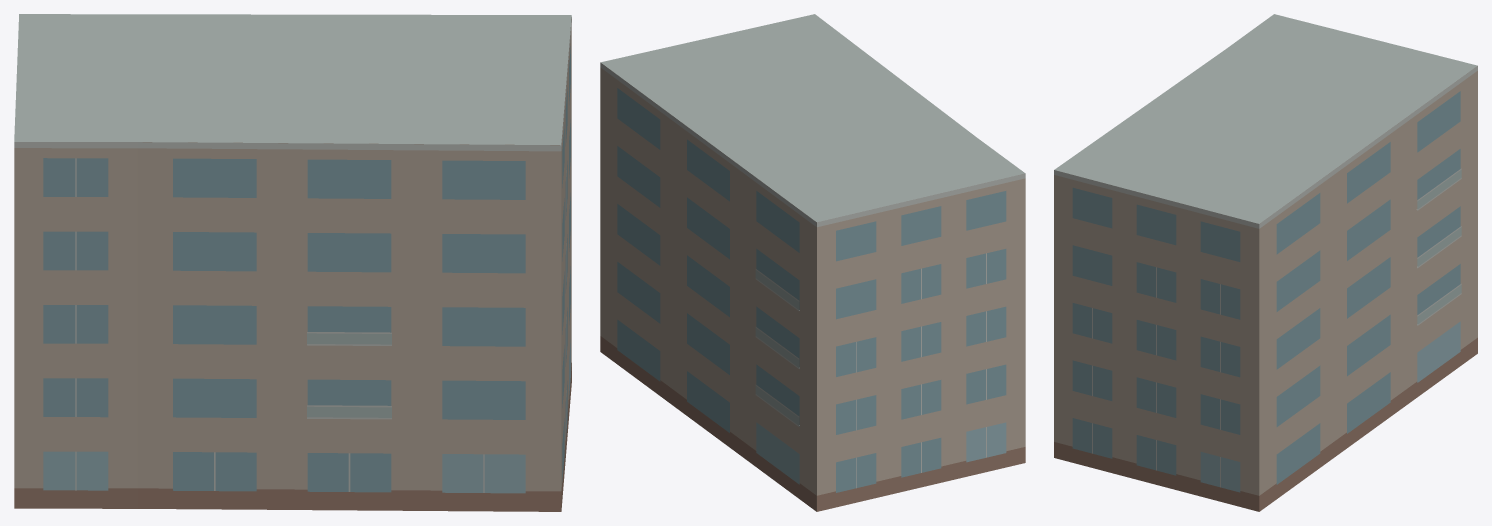
Rendered from survey-upis-32954322.glb.
3 views of the same model, side by side, from view 1: azimuth 30°, elevation 25°; view 2: azimuth 150°, elevation 25°; view 3: azimuth 270°, elevation 25° (orthographic). The views are drawn at different scales.
Parts seen in each view (by area): view 1: survey-upis-32954322.tmp; view 2: survey-upis-32954322.tmp; view 3: survey-upis-32954322.tmp.
Part boxes in pixels (x1=…): survey-upis-32954322.tmp: x1=14, y1=14, x2=571, y2=511; survey-upis-32954322.tmp: x1=600, y1=14, x2=1025, y2=511; survey-upis-32954322.tmp: x1=1054, y1=14, x2=1477, y2=511.
Size of the model in its own units: 22.37 by 14.3 by 19.08.
